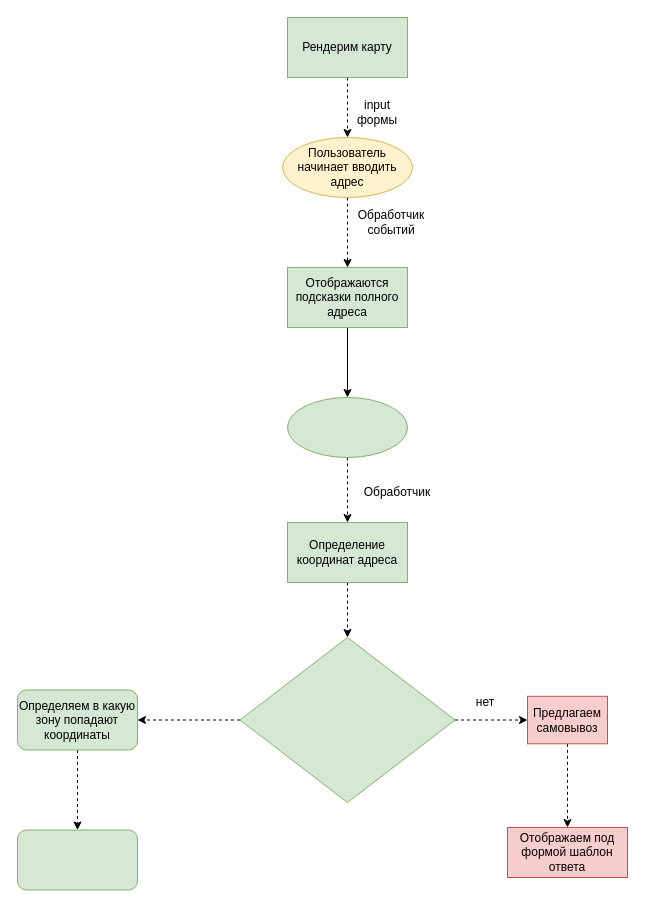
The diagram is 645 pixels wide and 908 high, and some of its shapes have lost their labels. The centre of each missing label's shape, as x and y in pixels:
"Координаты попадают в зону многоугольника?" goes at pixel 347 719.
"Отображаем надпись в какую зону попадает" goes at pixel 77 859.
"Пользователь выбирает свой адрес" goes at pixel 347 427.
